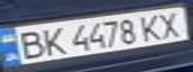4: (66, 20, 90, 52), (87, 19, 109, 49)
7: (103, 17, 124, 47)
8: (118, 16, 142, 45)
B: (9, 28, 48, 61)
K: (36, 25, 69, 56), (136, 11, 169, 42)
X: (151, 8, 190, 38)
